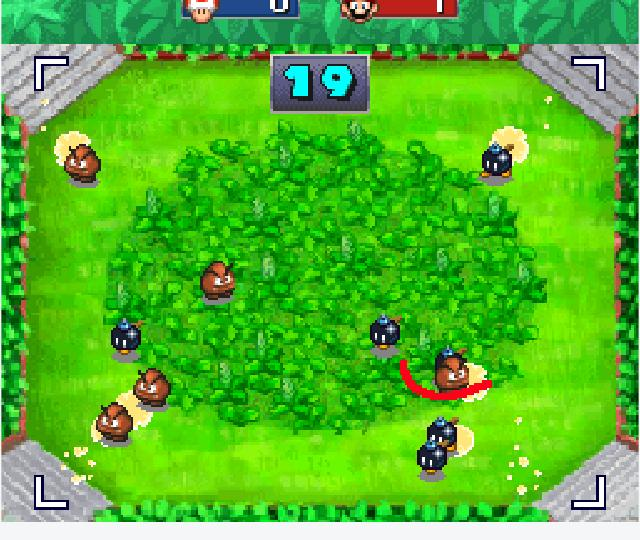bomb: (477, 140, 522, 187), (367, 312, 408, 355), (108, 315, 148, 359), (425, 414, 465, 452), (415, 438, 451, 476)
goomba: (90, 398, 137, 446), (129, 365, 174, 412), (61, 139, 105, 187), (194, 258, 241, 302), (429, 354, 472, 398)
